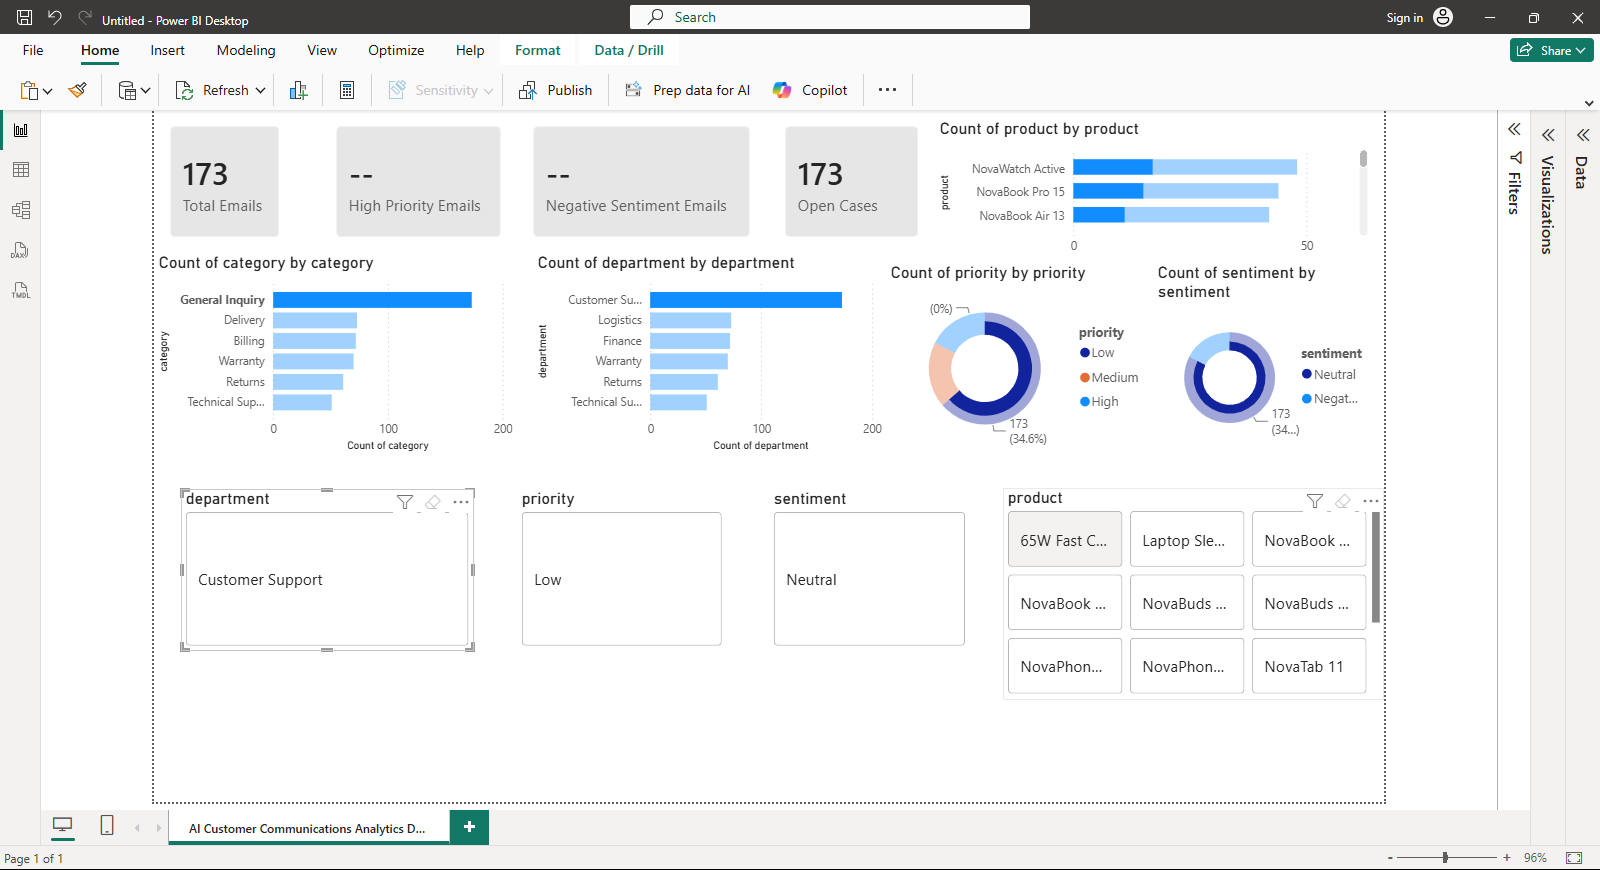

What the dashboard file says about the page in this screenshot:
{"tool":"powerbi","page":{"name":"AI Customer Communications Analytics Dashboard","canvas":[1280,720],"ordinal":0},"visuals":[{"type":"cardVisual","fields":{"Data":["customer_emails.Negative Sentiment Emails"]},"box":[377.8,0,259.6,149.1],"z":0},{"type":"cardVisual","fields":{"Data":["customer_emails.Total Emails"]},"box":[0,0,147.8,149.1],"z":1000},{"type":"cardVisual","fields":{"Data":["customer_emails.High Priority Emails"]},"box":[172.2,0,205.6,149.1],"z":2000},{"type":"cardVisual","fields":{"Data":["customer_emails.Open Cases"]},"box":[640,0,172.2,149.1],"z":3000},{"type":"clusteredBarChart","fields":{"Category":["customer_emails.department"],"Y":["CountNonNull(customer_emails.department)"]},"box":[394.5,149.1,367.6,210.8],"z":4000},{"type":"clusteredBarChart","fields":{"Category":["customer_emails.category"],"Y":["CountNonNull(customer_emails.category)"]},"box":[0,149.1,377.8,210.8],"z":5000},{"type":"clusteredBarChart","fields":{"Category":["customer_emails.product"],"Y":["CountNonNull(customer_emails.product)"]},"box":[812.2,9,454.9,150.4],"z":6000},{"type":"donutChart","fields":{"Category":["customer_emails.priority"],"Y":["CountNonNull(customer_emails.priority)"]},"box":[762.1,159.4,277.6,200.5],"z":7000},{"type":"donutChart","fields":{"Category":["customer_emails.sentiment"],"Y":["CountNonNull(customer_emails.sentiment)"]},"box":[1039.7,159.4,240.3,200.5],"z":8000},{"type":"advancedSlicerVisual","fields":{"Values":["customer_emails.department"]},"box":[28.3,394.5,304.6,168.4],"z":9000},{"type":"advancedSlicerVisual","fields":{"Values":["customer_emails.priority"]},"box":[377.8,394.5,218.5,168.4],"z":10000},{"type":"advancedSlicerVisual","fields":{"Values":["customer_emails.sentiment"]},"box":[640,394.5,209.5,168.4],"z":11000},{"type":"advancedSlicerVisual","fields":{"Values":["customer_emails.product"]},"box":[882.9,393.3,397.1,221],"z":12000}]}

Visuals, with their boxes on the page's 1280x720 design canvas (x1, y1, x2, y2). These are canvas units, not pixel positions in the 1600x870 screenshot, which may show the page scaled, cropped or inside an application window:
cardVisual - customer_emails.Negative Sentiment Emails: <box>378,0,637,149</box>
cardVisual - customer_emails.Total Emails: <box>0,0,148,149</box>
cardVisual - customer_emails.High Priority Emails: <box>172,0,378,149</box>
cardVisual - customer_emails.Open Cases: <box>640,0,812,149</box>
clusteredBarChart - customer_emails.department x CountNonNull(customer_emails.department): <box>394,149,762,360</box>
clusteredBarChart - customer_emails.category x CountNonNull(customer_emails.category): <box>0,149,378,360</box>
clusteredBarChart - customer_emails.product x CountNonNull(customer_emails.product): <box>812,9,1267,159</box>
donutChart - customer_emails.priority x CountNonNull(customer_emails.priority): <box>762,159,1040,360</box>
donutChart - customer_emails.sentiment x CountNonNull(customer_emails.sentiment): <box>1040,159,1280,360</box>
advancedSlicerVisual - customer_emails.department: <box>28,394,333,563</box>
advancedSlicerVisual - customer_emails.priority: <box>378,394,596,563</box>
advancedSlicerVisual - customer_emails.sentiment: <box>640,394,850,563</box>
advancedSlicerVisual - customer_emails.product: <box>883,393,1280,614</box>
